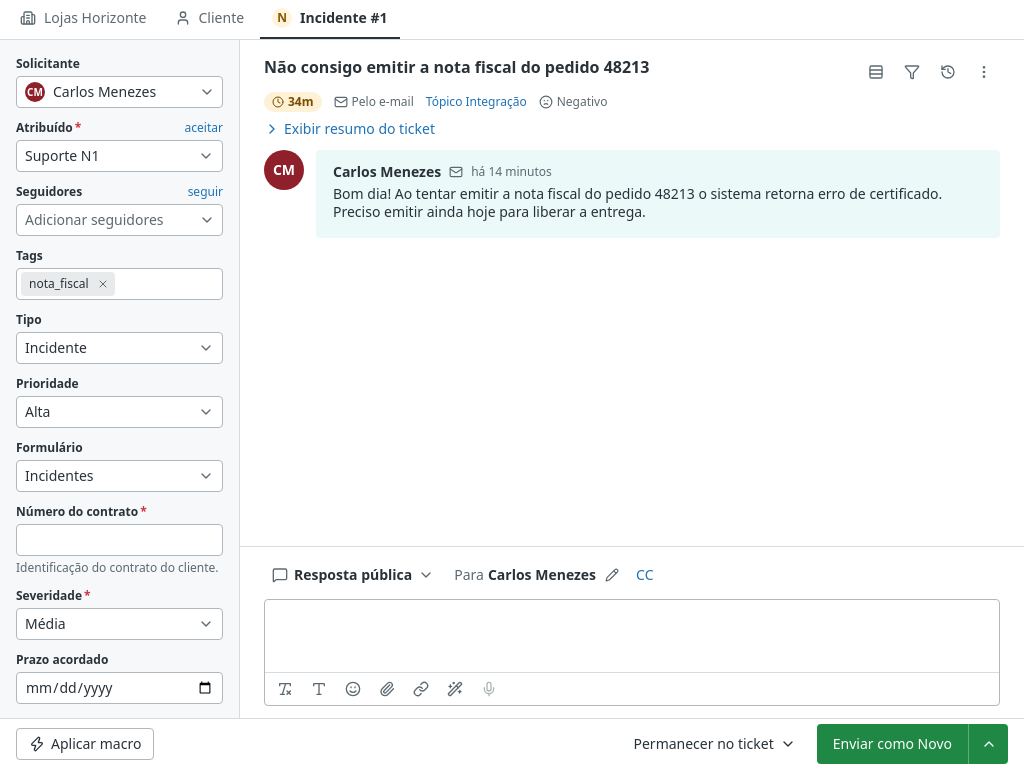
Test: resolver com obrigatório pendente › antecipa no cliente: diálogo lista os campos, "Ir ao campo" foca o controle e o texto da resposta fica
Check: the field labelled "Número do contrato*" is shown, box [17,525,222,555]
Step 1. Click the button named "Escolher status de envio" → (988, 744), box [968,724,1008,764]
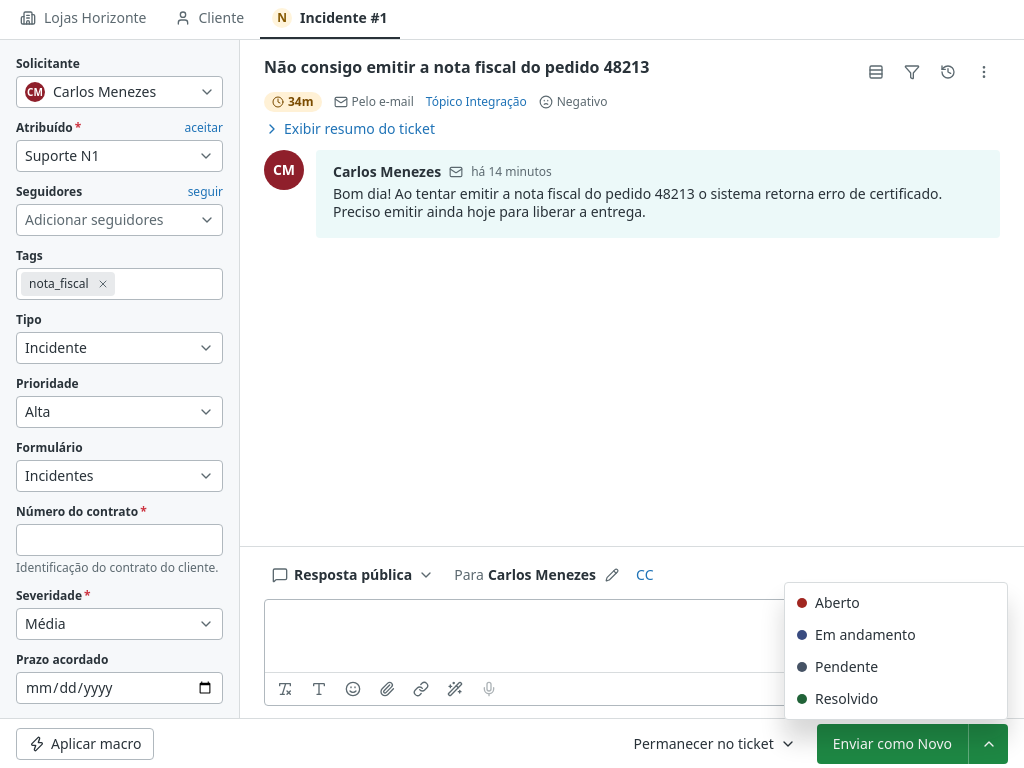
Step 2. Click the menu item "Resolvido" → (838, 698), box [797,689,878,708]
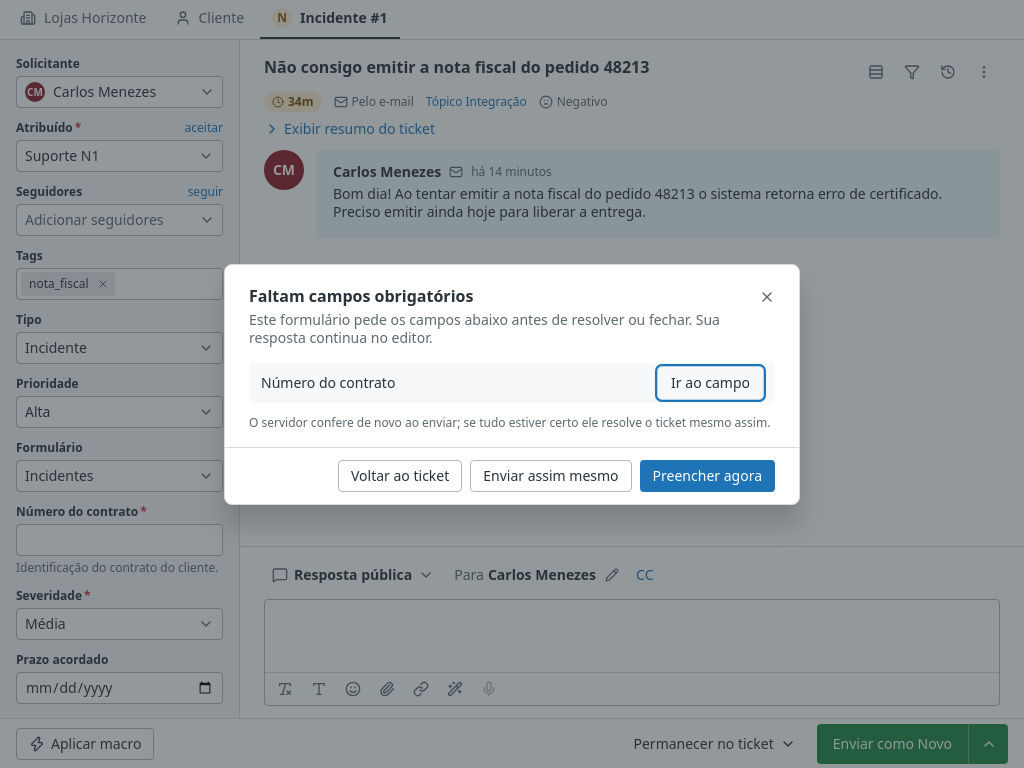
Check: the list named "Campos pendentes" shows "Número do contrato", box [261,372,395,392]
Check: the button "Enviar assim mesmo" is shown, box [470,460,632,492]
Step 3. Click the button with aria-label "Ir ao campo Número do contrato" → (711, 382), box [658,366,763,398]
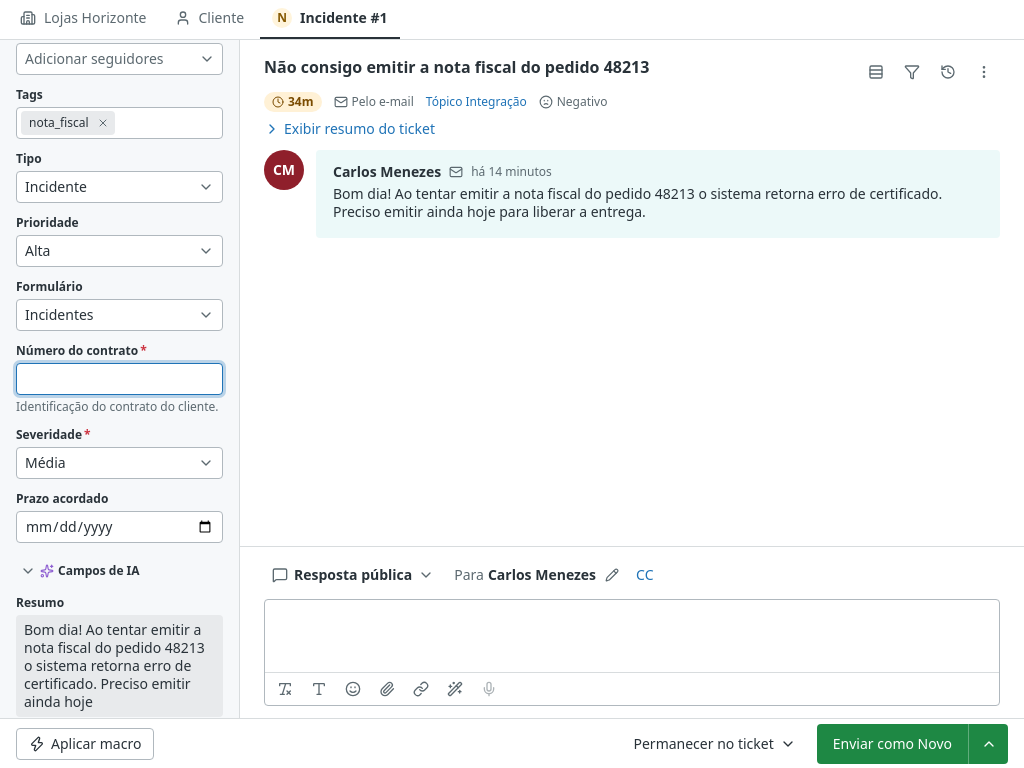
Check: the heading "Faltam campos obrigatórios" is gone
